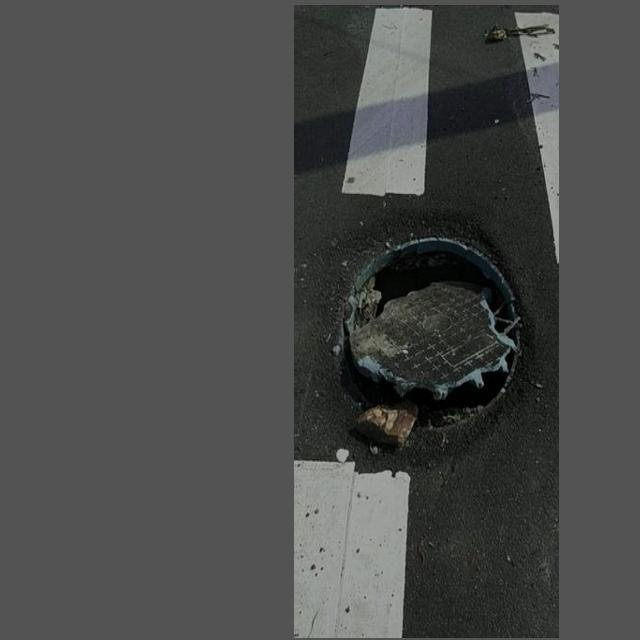broke: (303, 205, 550, 464)
